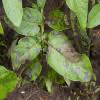Potato leaf early blight: (45, 29, 96, 85), (9, 35, 41, 69), (4, 8, 42, 36), (46, 8, 72, 32), (16, 63, 42, 85), (44, 74, 53, 93), (37, 32, 48, 40)
